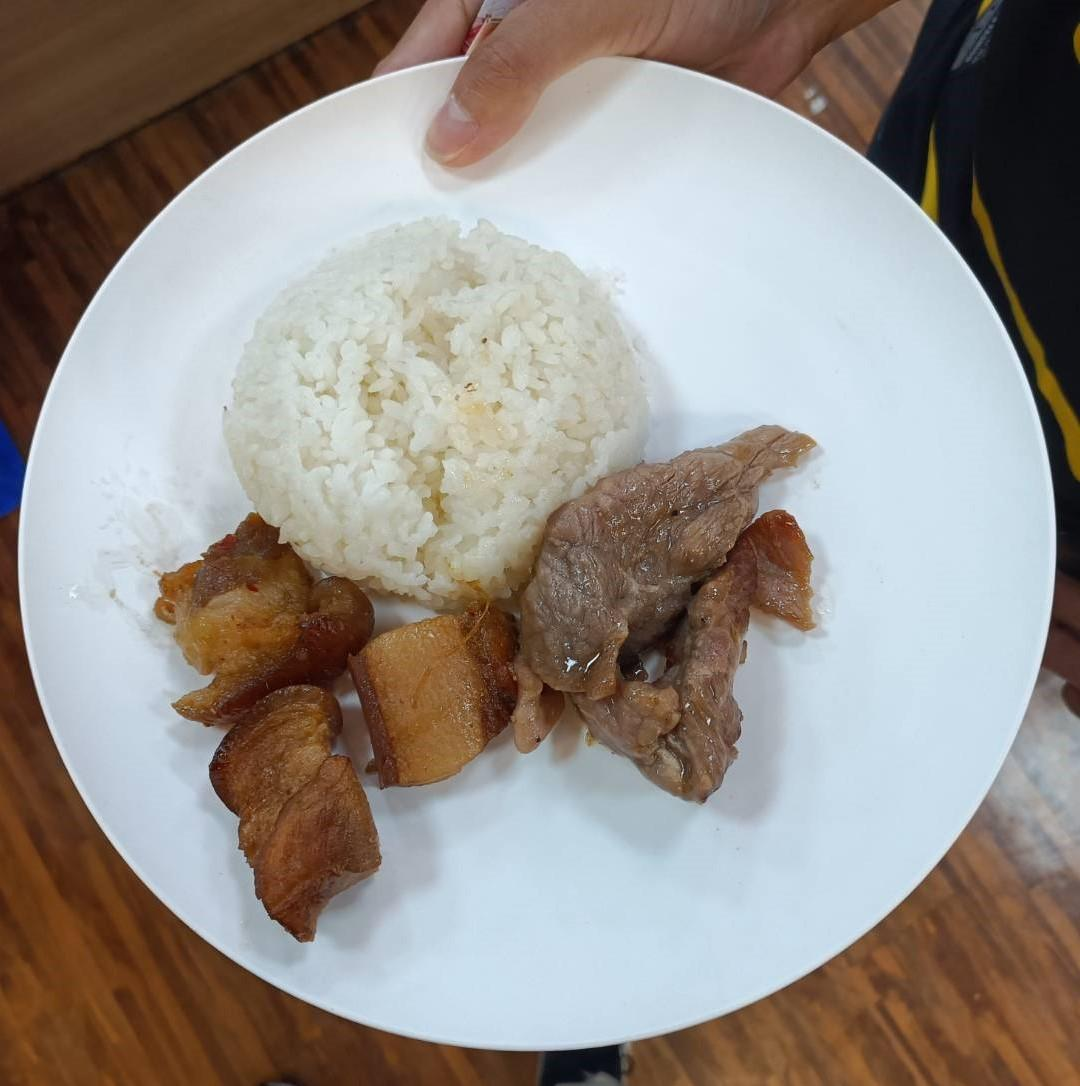big fried chicken leg: (21, 15, 1067, 1053)
big herbal chicken leg: (224, 224, 659, 599)
braised pork: (136, 526, 535, 927), (497, 403, 846, 801)
